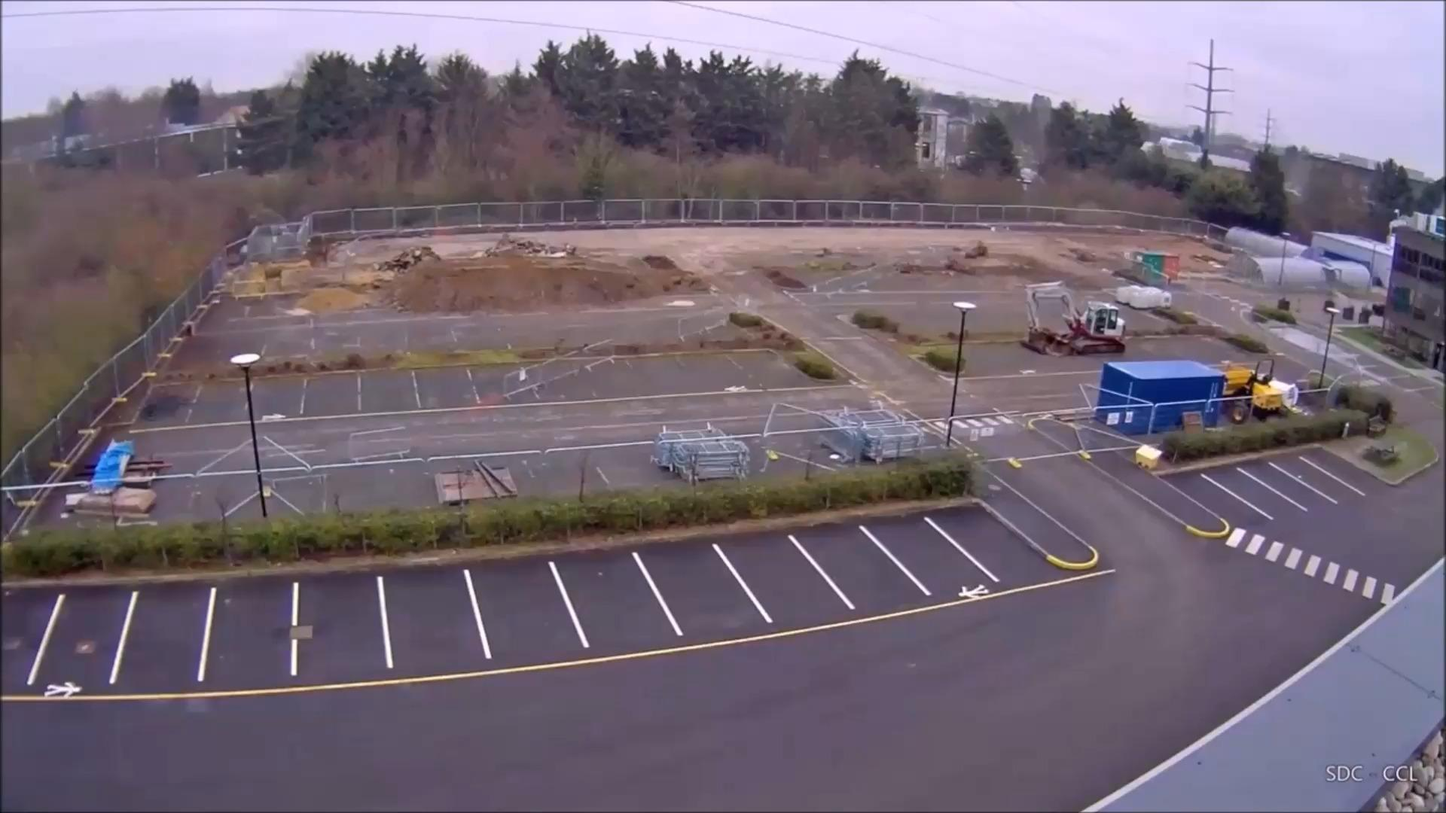free: (63, 630, 113, 663), (404, 603, 455, 635), (748, 549, 798, 581), (674, 566, 724, 598), (833, 537, 883, 569), (583, 573, 633, 605), (893, 536, 943, 568), (961, 523, 1011, 555), (499, 594, 549, 626), (304, 593, 354, 625), (146, 627, 196, 659), (223, 614, 273, 646), (1245, 473, 1295, 505), (1294, 456, 1344, 488), (1207, 479, 1234, 511)
